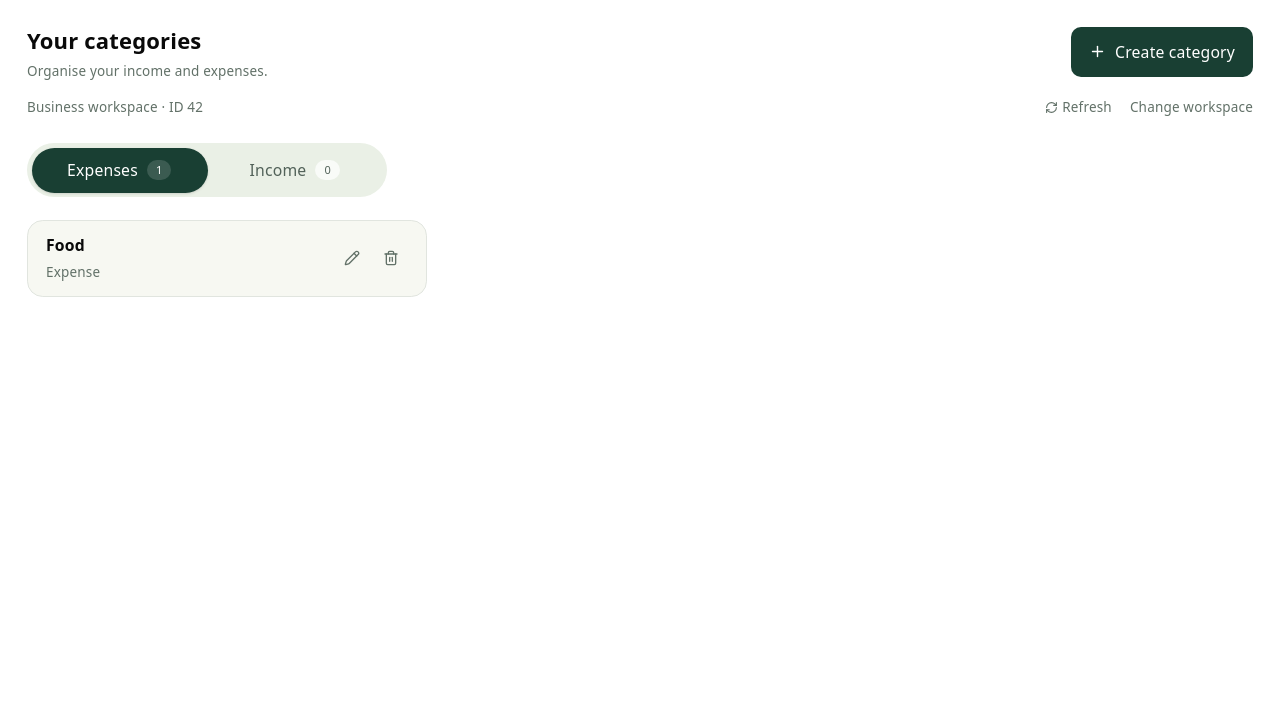
Scenario: keeps a category when deletion fails with HTTP 409
Expected: the text "Food" is shown, [46,234,85,256]
What coordinates should you click on to do the following:
click the button named "Delete Food"
I would click on:
 (391, 258)
Its box is [374,241,408,275].
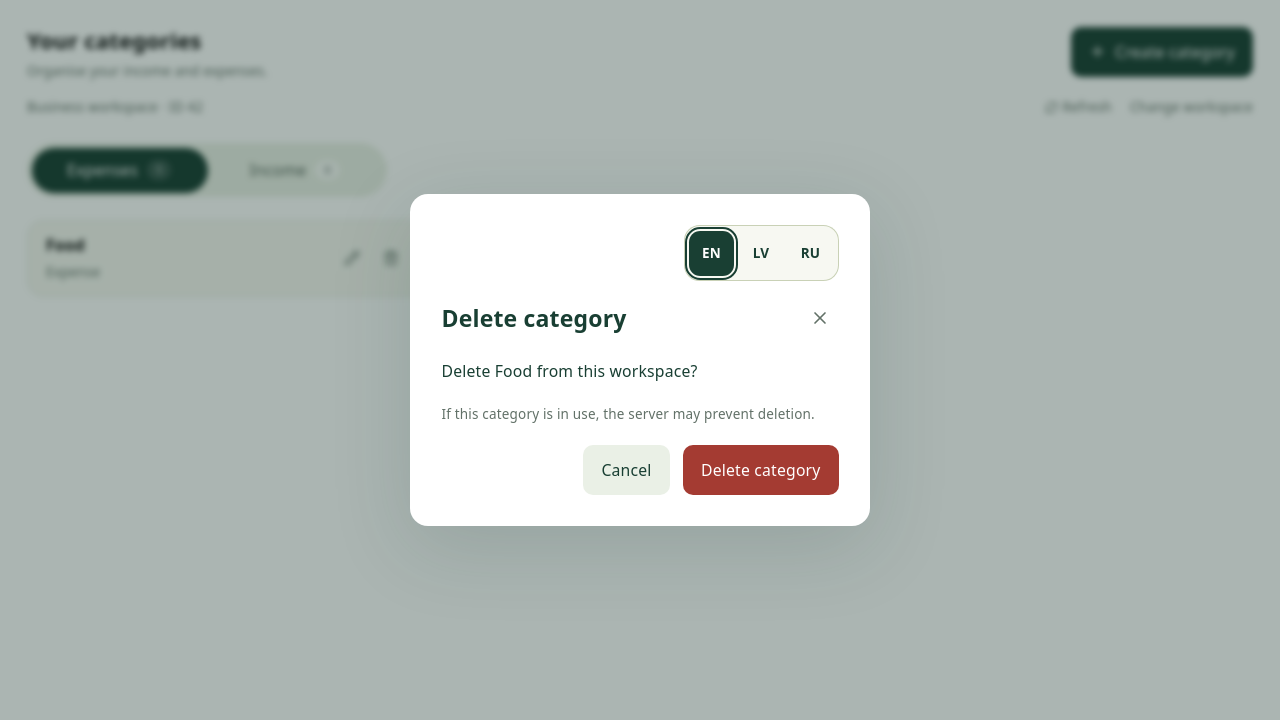
What coordinates should you click on to do the following:
click the button "Delete category"
I would click on:
 (761, 470)
Its box is [683,445,838,495].
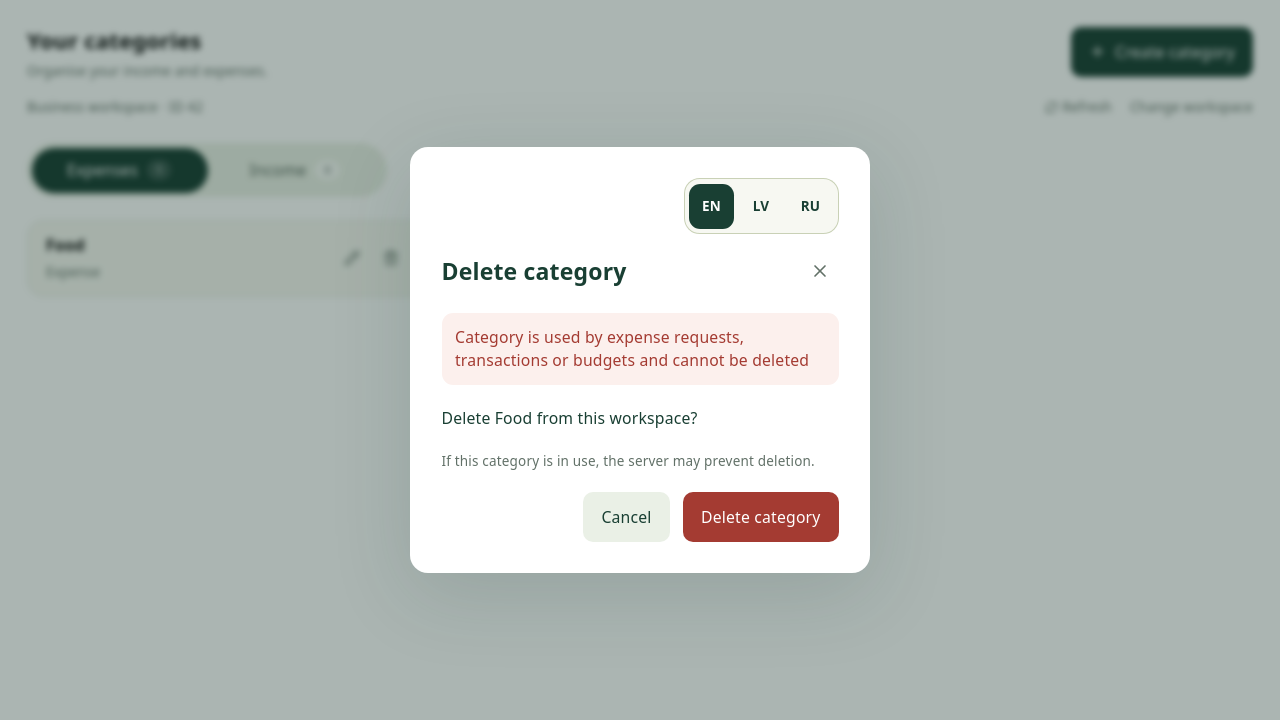
Expected: the list named "Business categories" shows "Food", [46,234,85,256]
Expected: the message shows "used by expense requests, transactions or budgets and cannot be deleted", [455,326,809,370]
